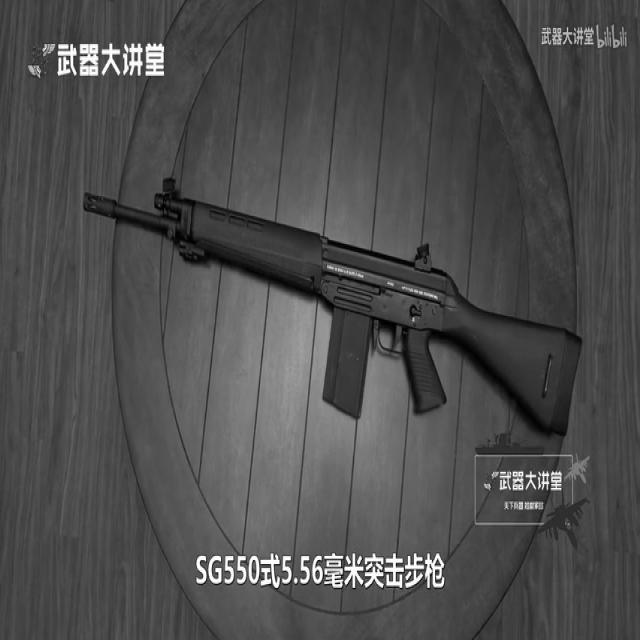Rifle: (41, 68, 616, 602)
